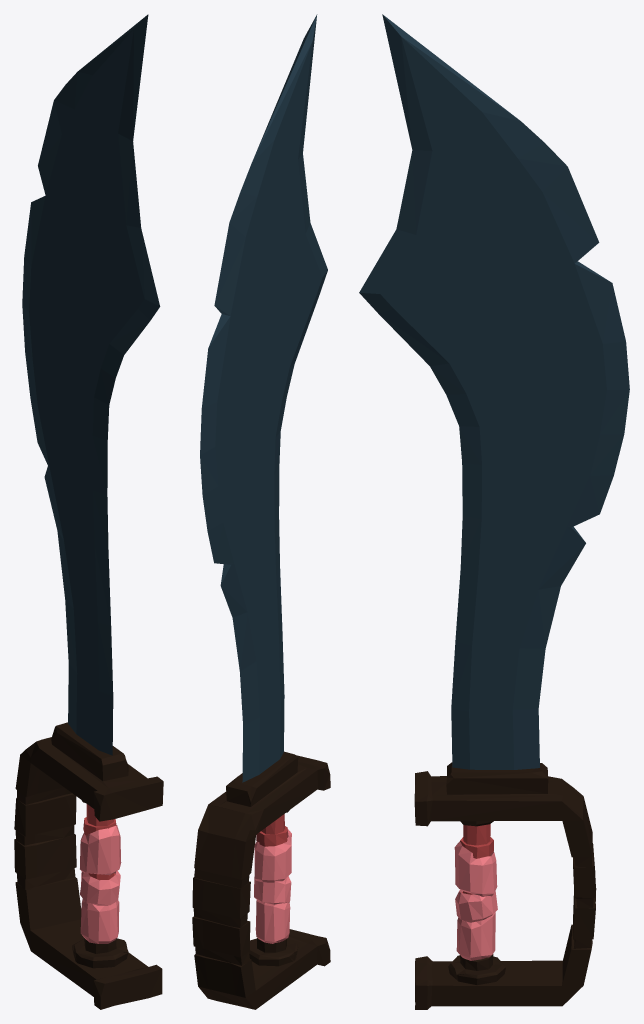
The model's file is SFFA_Weapon_Sword_Gold_001.fbx.
The picture shows the model from 3 angles, left to right: view 1: azimuth 30°, elevation 25°; view 2: azimuth 150°, elevation 25°; view 3: azimuth 270°, elevation 25°; orthographic projection. The views are drawn at different scales.
Parts seen in each view (by area): view 1: SFFA_Weapon_Sword_Gold_001; view 2: SFFA_Weapon_Sword_Gold_001; view 3: SFFA_Weapon_Sword_Gold_001.
Boxes of the visible parts, left/top/right/bottom form: SFFA_Weapon_Sword_Gold_001: left=14, top=14, right=163, bottom=1009; SFFA_Weapon_Sword_Gold_001: left=192, top=14, right=330, bottom=1009; SFFA_Weapon_Sword_Gold_001: left=359, top=14, right=629, bottom=1009.
Size of the model in its own units: 6.06 by 91.03 by 22.74.
